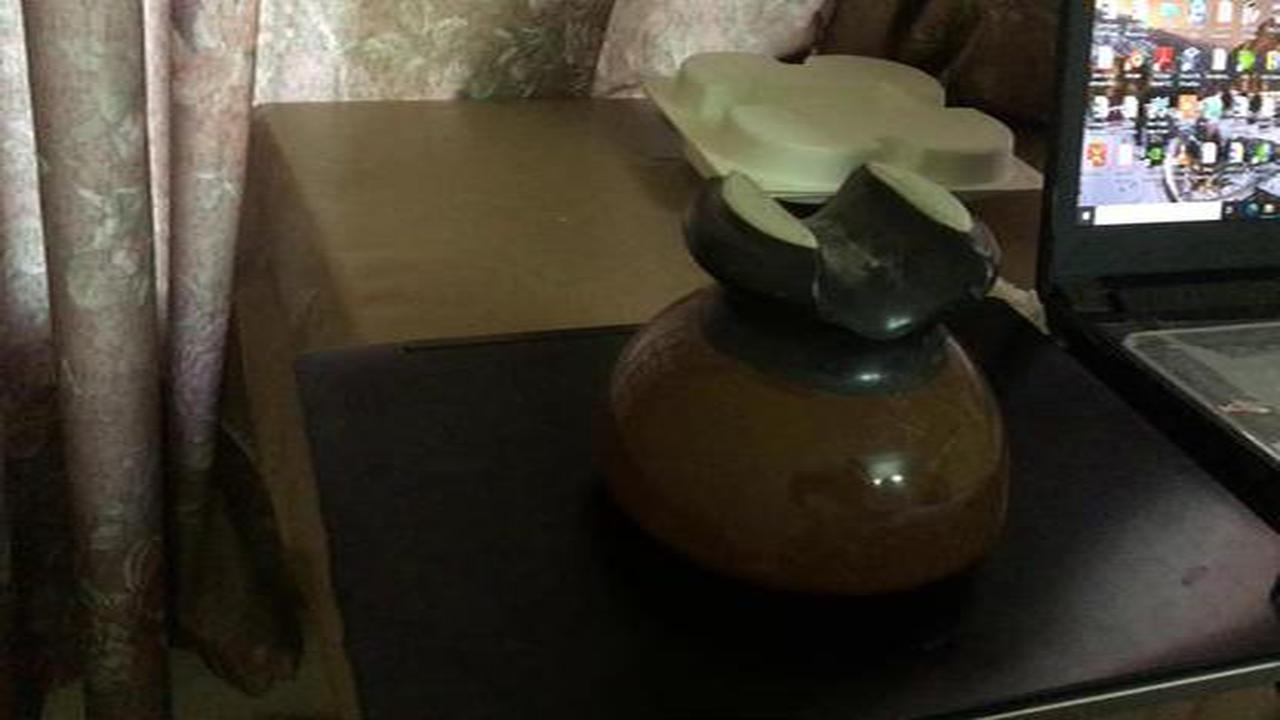insulator_pin: (573, 138, 1068, 618)
